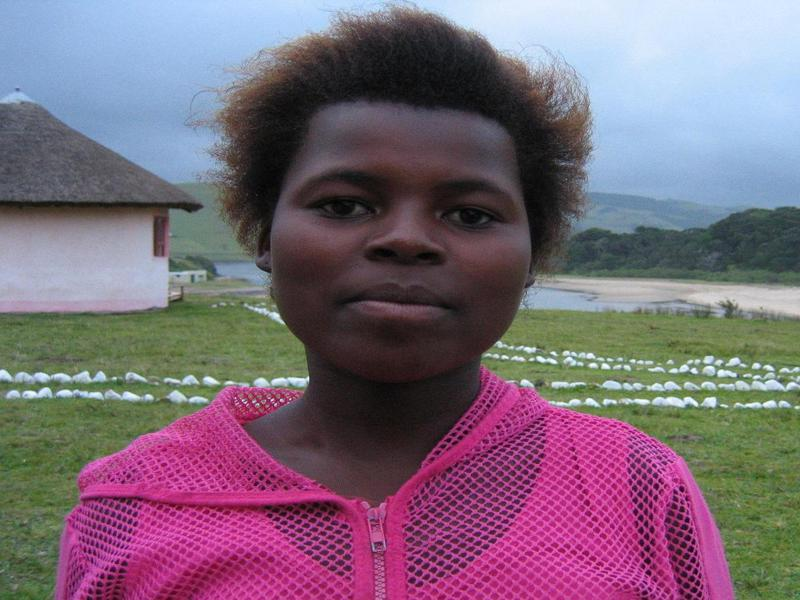person: (57, 10, 736, 600)
